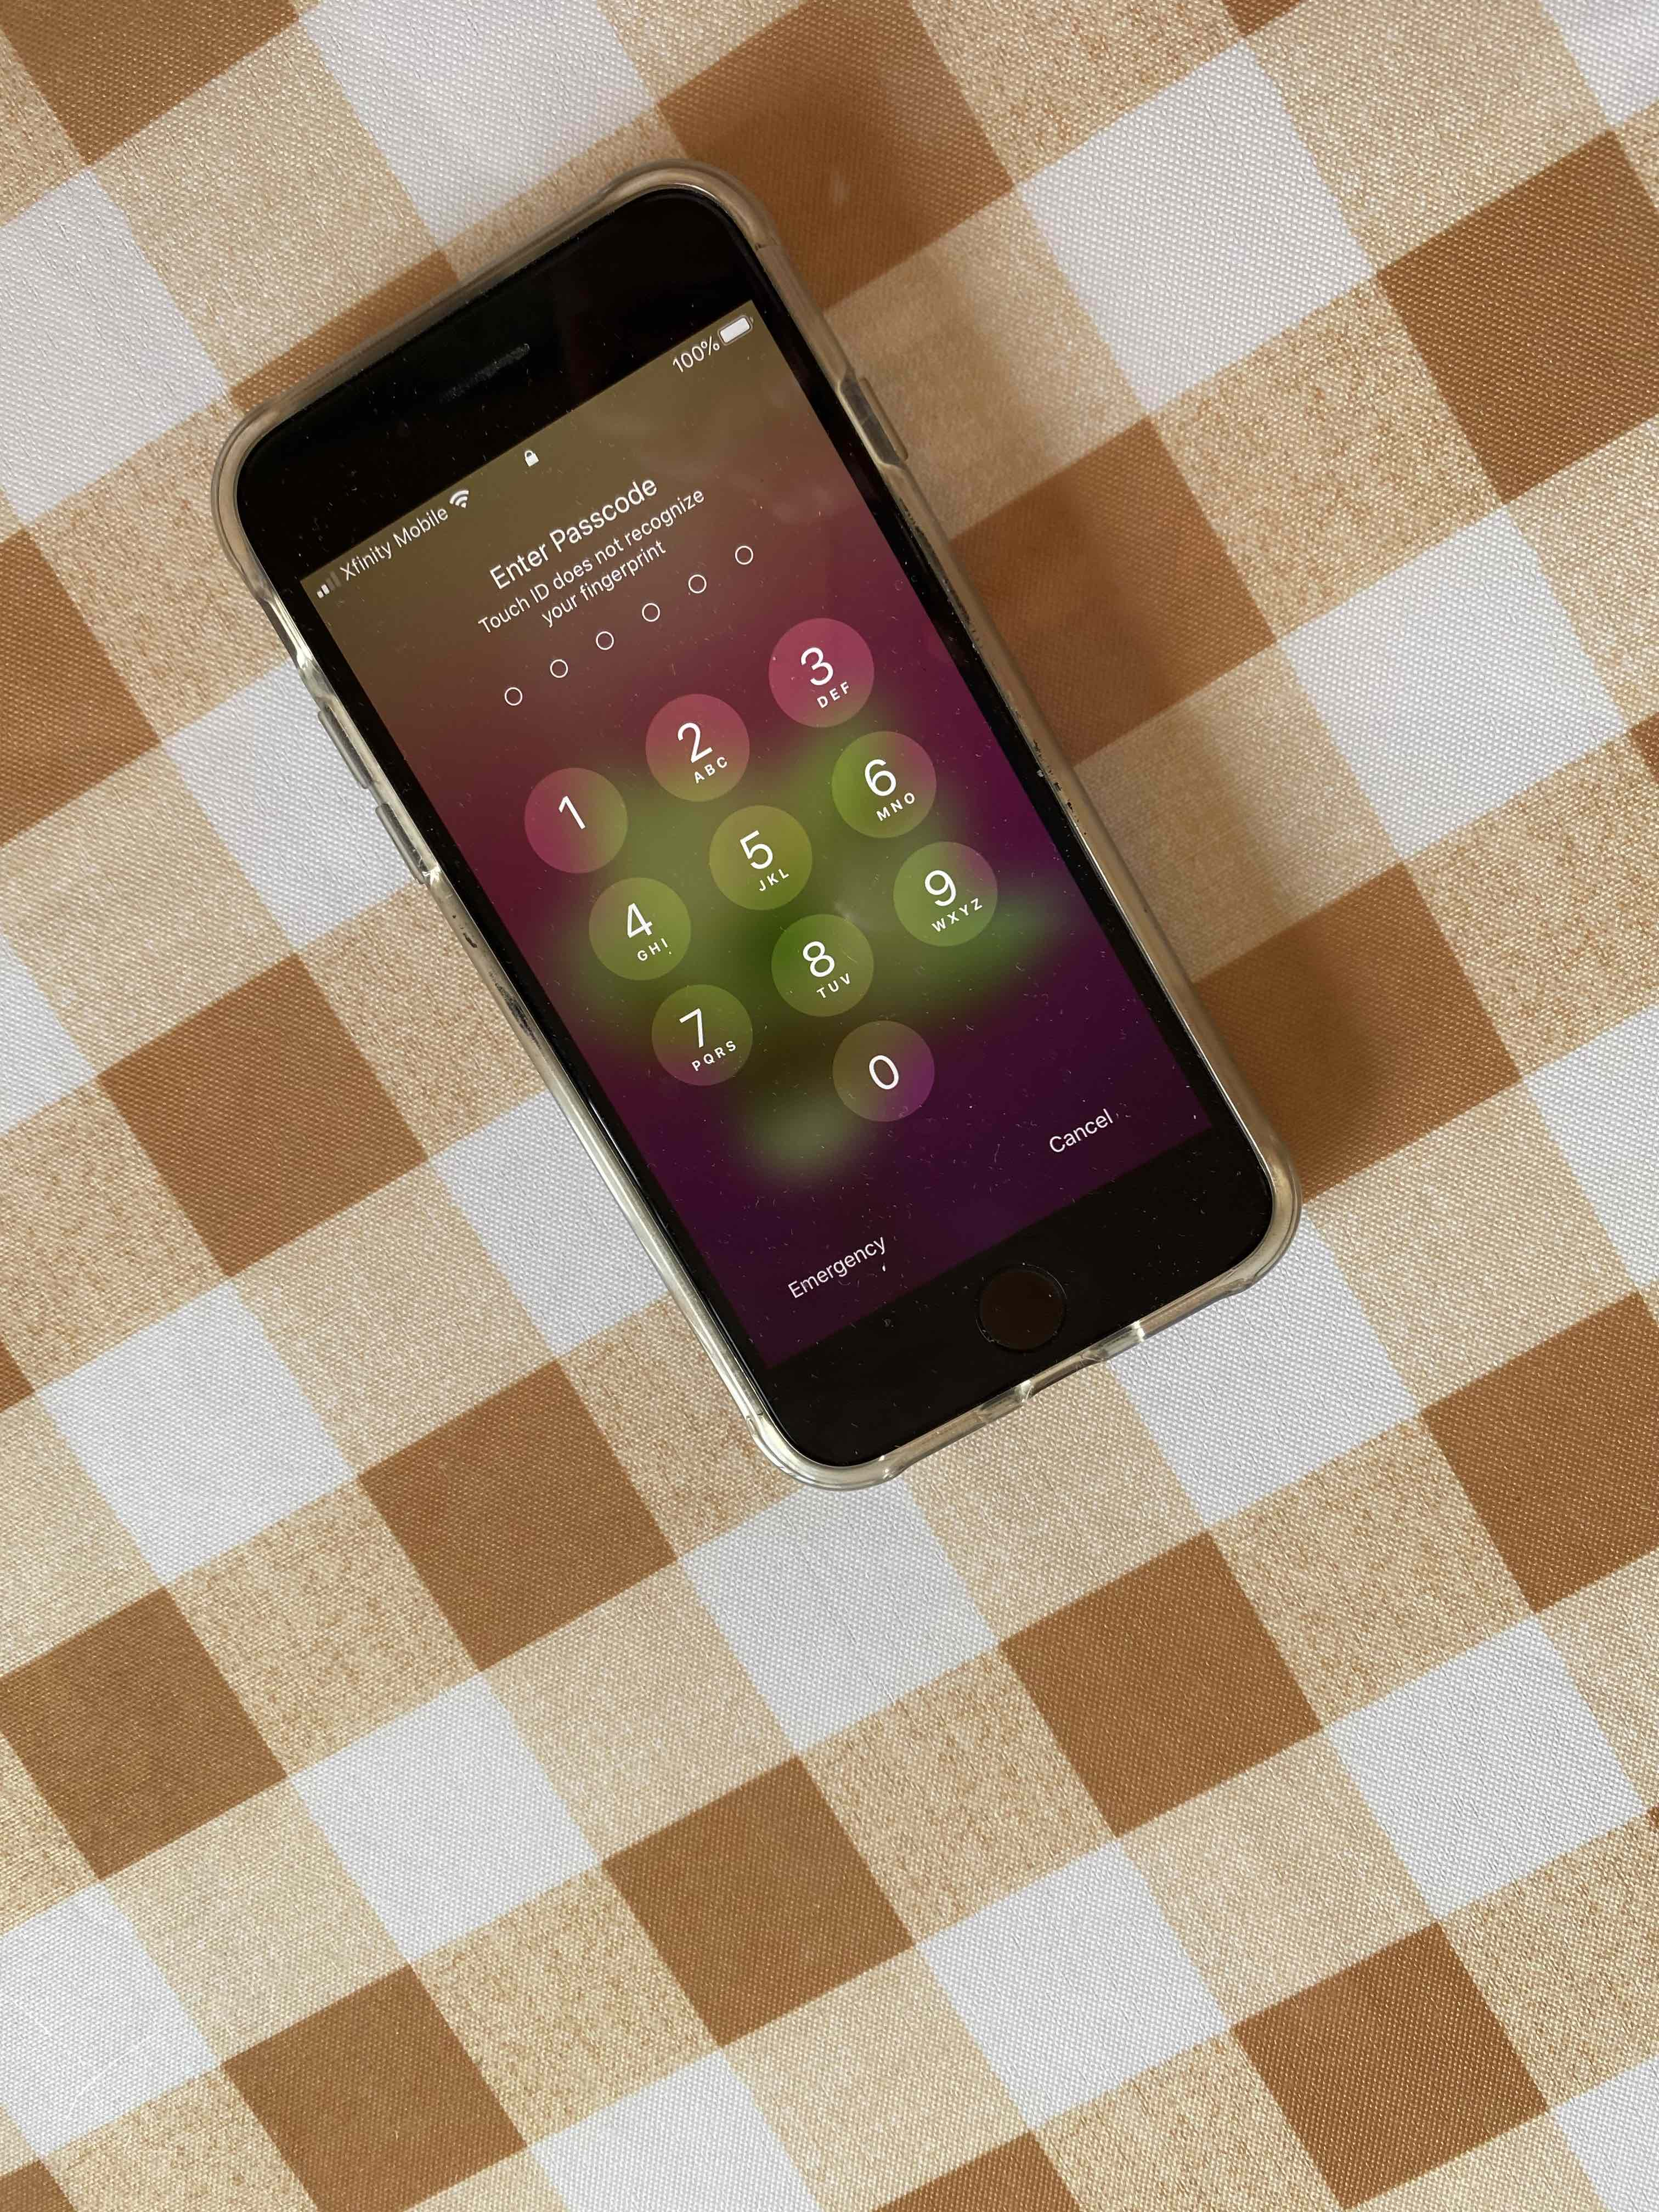Cell Phone: (213, 167, 1302, 1487)
